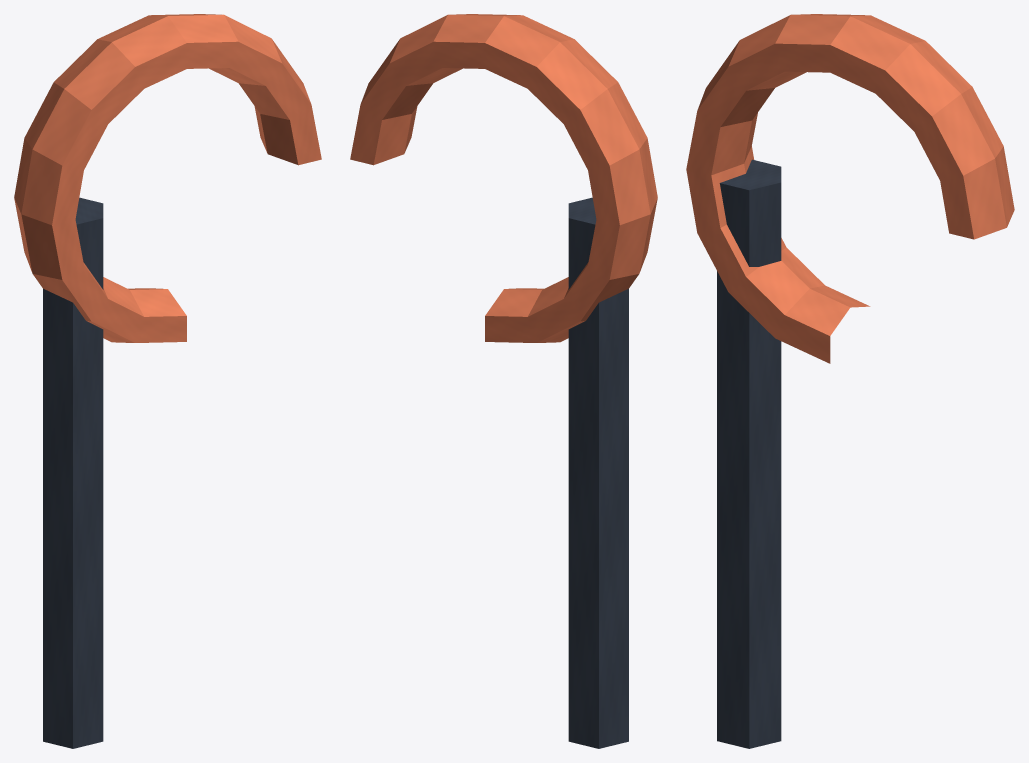
File: atlas100-s027-a05.glb
The picture shows the model from 3 angles, left to right: view 1: azimuth 30°, elevation 25°; view 2: azimuth 150°, elevation 25°; view 3: azimuth 330°, elevation 25°; orthographic projection. The views are drawn at different scales.
Visible parts, largest first — view 1: atlas100-s027-a05:part-001, atlas100-s027-a05:part-000; view 2: atlas100-s027-a05:part-001, atlas100-s027-a05:part-000; view 3: atlas100-s027-a05:part-001, atlas100-s027-a05:part-000.
Part boxes in pixels (bbox=[...]): atlas100-s027-a05:part-001: bbox=[14, 14, 321, 342]; atlas100-s027-a05:part-000: bbox=[43, 197, 103, 748]; atlas100-s027-a05:part-001: bbox=[350, 14, 657, 342]; atlas100-s027-a05:part-000: bbox=[568, 197, 628, 748]; atlas100-s027-a05:part-001: bbox=[686, 14, 1014, 363]; atlas100-s027-a05:part-000: bbox=[717, 159, 781, 748].
Size of the model in its own units: 0.3713 by 0.8408 by 0.0832.
2 materials, 2 textured.
